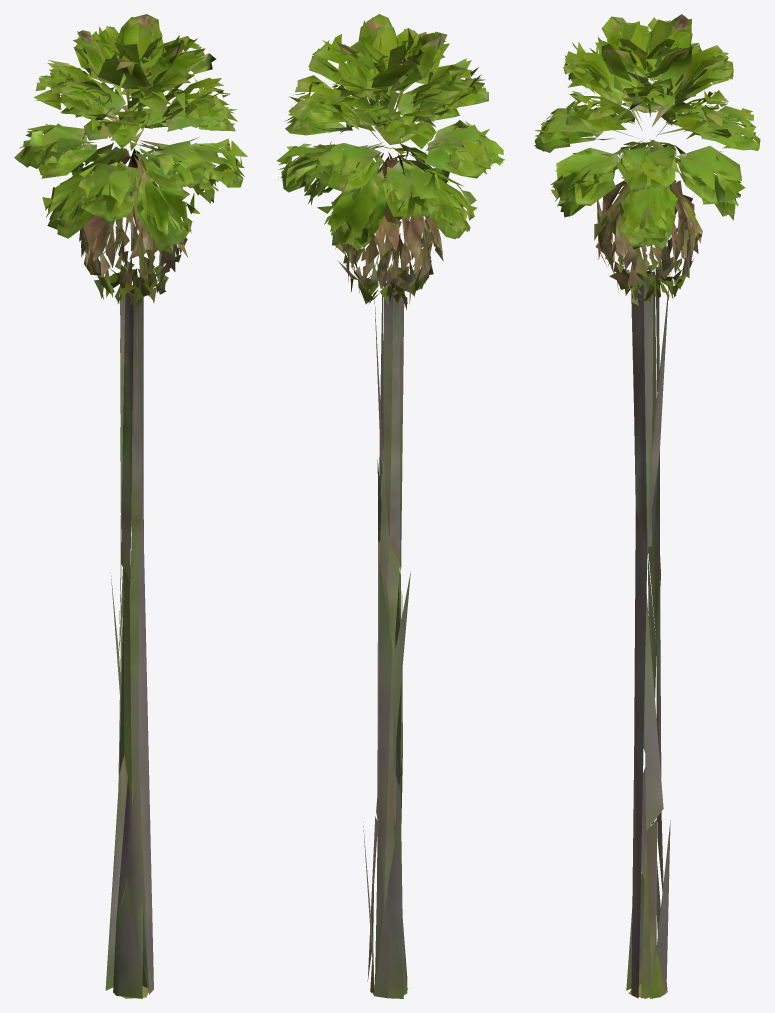
File: washingtonia-lod.glb
3 renders of one model, left to right at view 1: azimuth 30°, elevation 25°; view 2: azimuth 150°, elevation 25°; view 3: azimuth 270°, elevation 25°, orthographic.
Visible parts, largest first — view 1: Mesh_0; view 2: Mesh_0; view 3: Mesh_0.
Boxes of the visible parts, left/top/right/bottom form: Mesh_0: left=14, top=14, right=247, bottom=998; Mesh_0: left=277, top=14, right=504, bottom=998; Mesh_0: left=534, top=14, right=760, bottom=998.
Bounding box in the file's own units: 0.4072 × 1.9 × 0.4053.
Materials: 1 (1 with a texture image).
